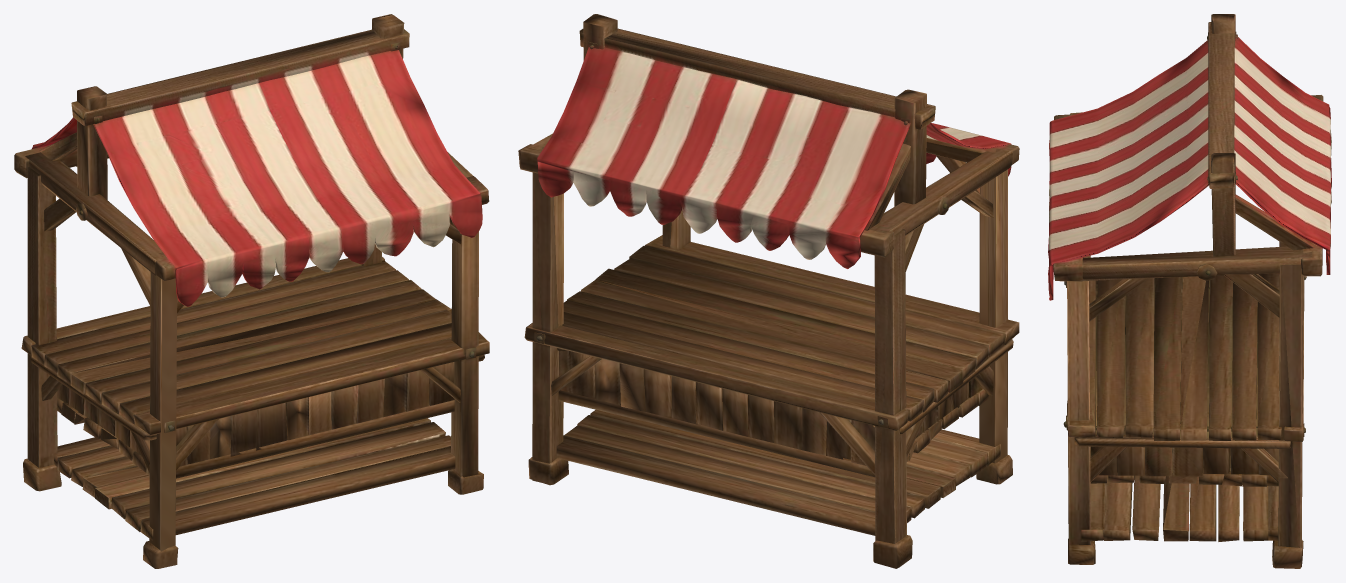
The model's file is kit_market_stall.glb.
3 renders of one model, left to right at view 1: azimuth 30°, elevation 25°; view 2: azimuth 150°, elevation 25°; view 3: azimuth 270°, elevation 25°, orthographic. The views are drawn at different scales.
Visible parts, largest first — view 1: mesh_node; view 2: mesh_node; view 3: mesh_node.
Part boxes in pixels (left/top/right/bottom): mesh_node: left=14, top=14, right=489, bottom=568; mesh_node: left=518, top=14, right=1019, bottom=568; mesh_node: left=1048, top=14, right=1331, bottom=568.
Size of the model in its own units: 0.0315 by 0.035 by 0.0226.
1 material, 1 textured.
